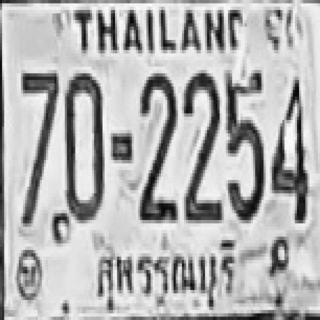N00: (63, 70, 102, 220)
N02: (181, 70, 221, 220), (138, 70, 176, 220)
N04: (270, 73, 308, 220)
N05: (224, 68, 264, 218)
N07: (19, 70, 57, 223), (20, 70, 58, 177)
P66: (92, 235, 243, 317)
